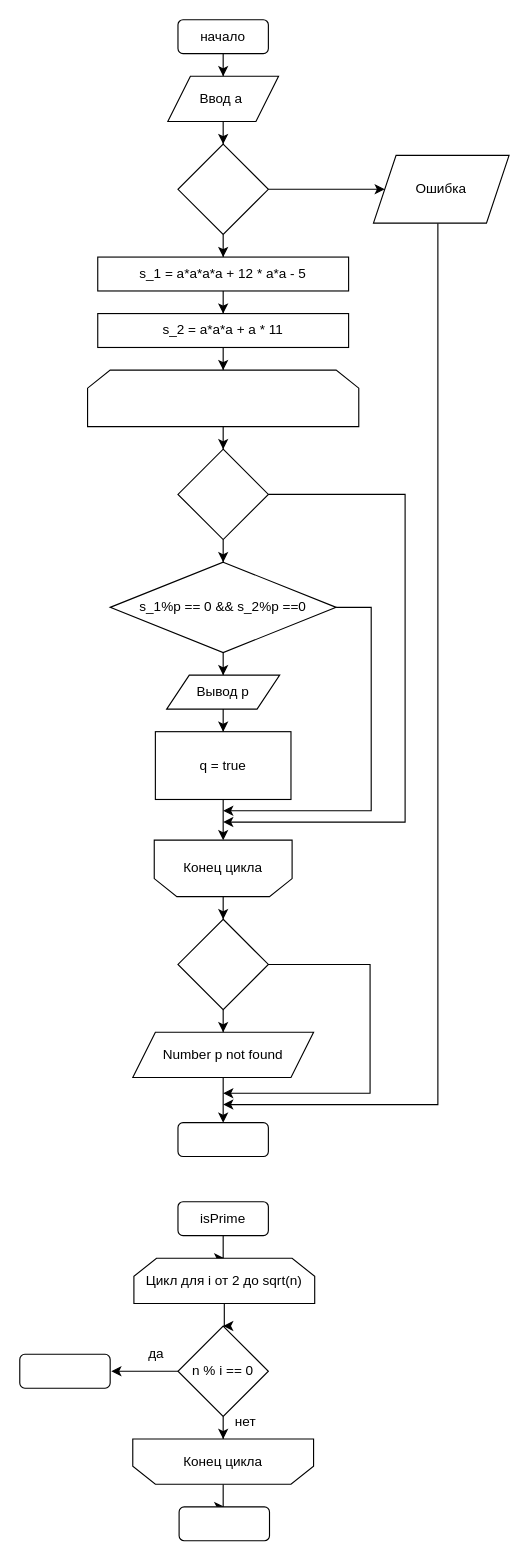
The diagram is 529 pixels wide and 1561 high, and some of its shapes have lost their labels. Here are the shapes that lost their labels. From the top down, the centre of each, then its label:
At [222,188]: "a == 0".
At [222,398]: "Цикл для p от 2 до (long)fmax(s_1, s_2)/2".
At [222,494]: "isPrime(p)".
At [222,964]: "q==true".
At [222,1139]: "конец".
At [64,1370]: "Возврат false".
At [224,1523]: "Возврат true".
